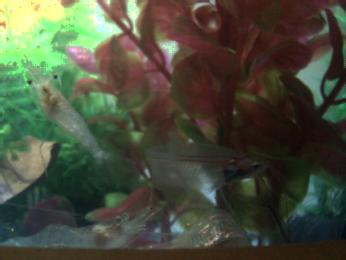glassfish: (146, 135, 266, 194)
siberian prawn: (24, 65, 117, 170), (4, 205, 164, 247)
